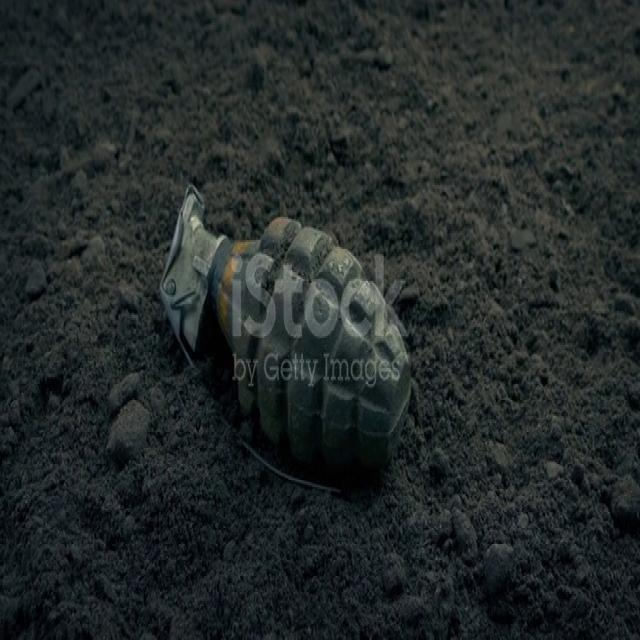grenade: (161, 174, 414, 496)
